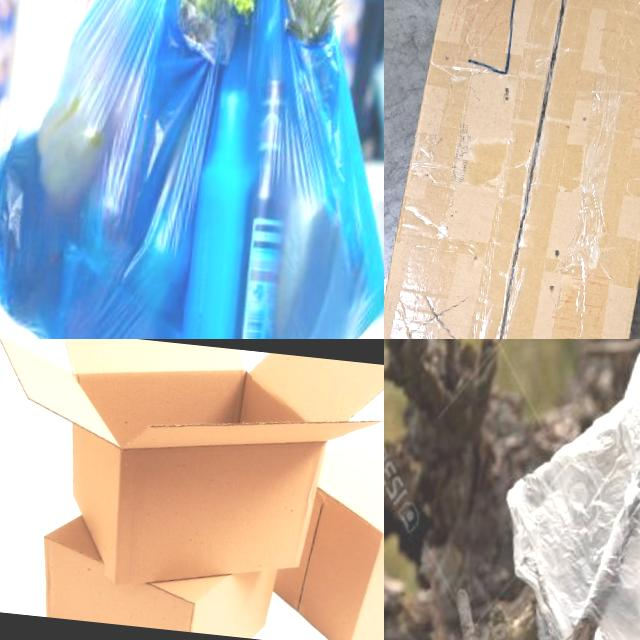garrafa plástica: (0, 339, 384, 609), (242, 428, 384, 640)
papelão: (384, 0, 640, 339)
sacola plástica: (0, 0, 265, 339), (158, 0, 384, 339), (474, 339, 640, 640)
